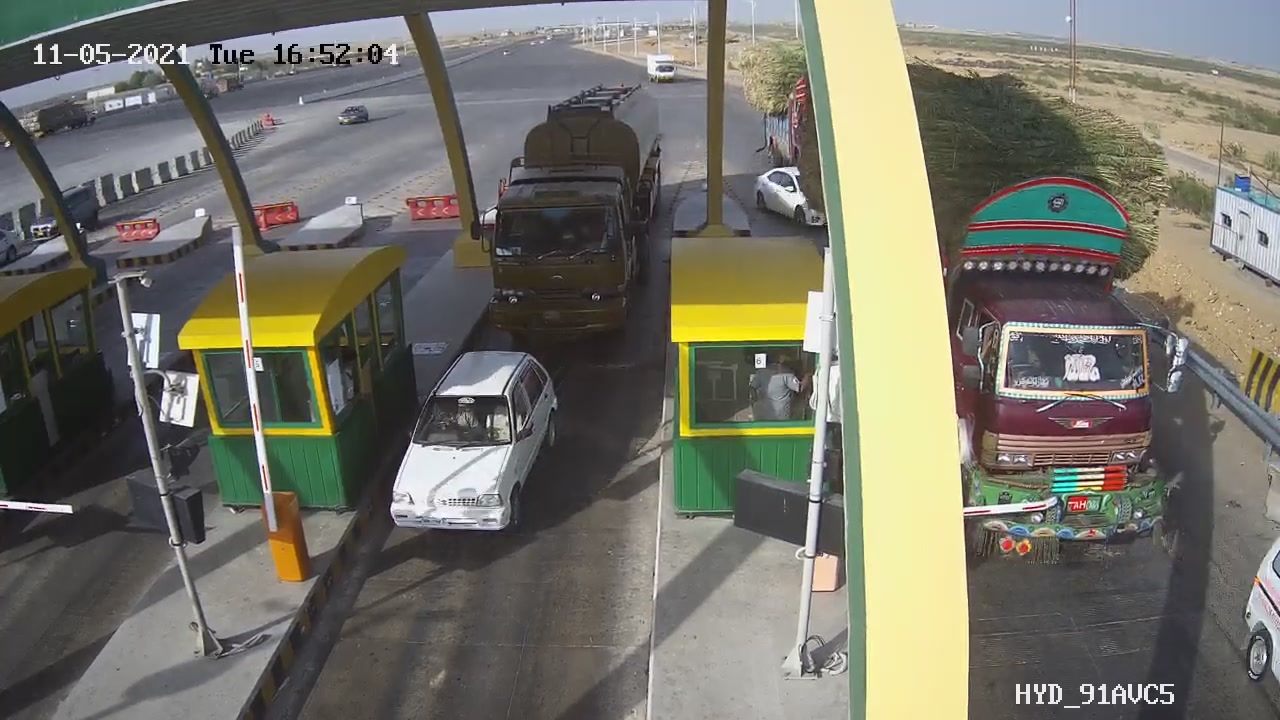F1: (363, 332, 583, 554)
F6: (488, 72, 668, 350)
